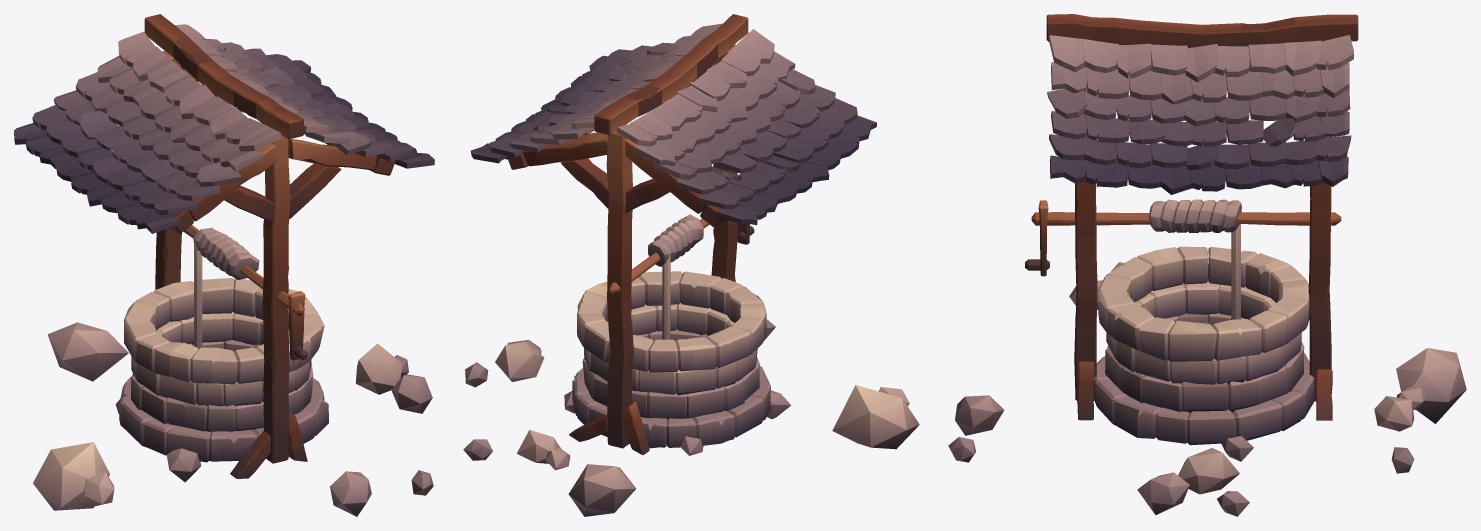
The model's file is well.fbx.
The picture shows the model from 3 angles, left to right: view 1: azimuth 30°, elevation 25°; view 2: azimuth 150°, elevation 25°; view 3: azimuth 270°, elevation 25°; orthographic projection. The views are drawn at different scales.
Visible parts, largest first — view 1: Icosphere.005; view 2: Icosphere.005; view 3: Icosphere.005.
Part boxes in pixels (x1,y1,x2,y2): Icosphere.005: (14,14,434,516); Icosphere.005: (463,14,919,516); Icosphere.005: (948,14,1466,516).
Size of the model in its own units: 16.99 by 14.98 by 16.96.
